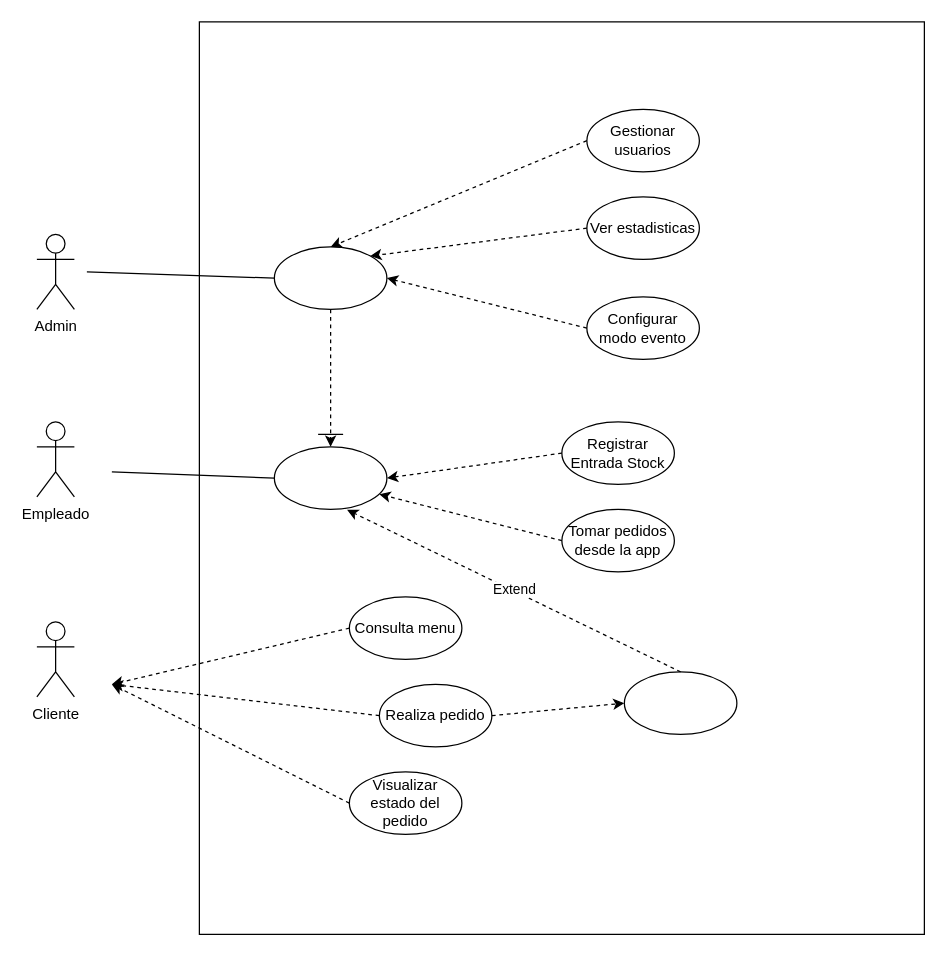
Some shapes in this 946 by 956 pixel diagram are drawn without their labels. Each missing label, with the centre of its shape:
Descuenta Stock: the point at 680,702
Gestionar Preparacion: the point at 330,477
Gestión de Administracion: the point at 330,277
